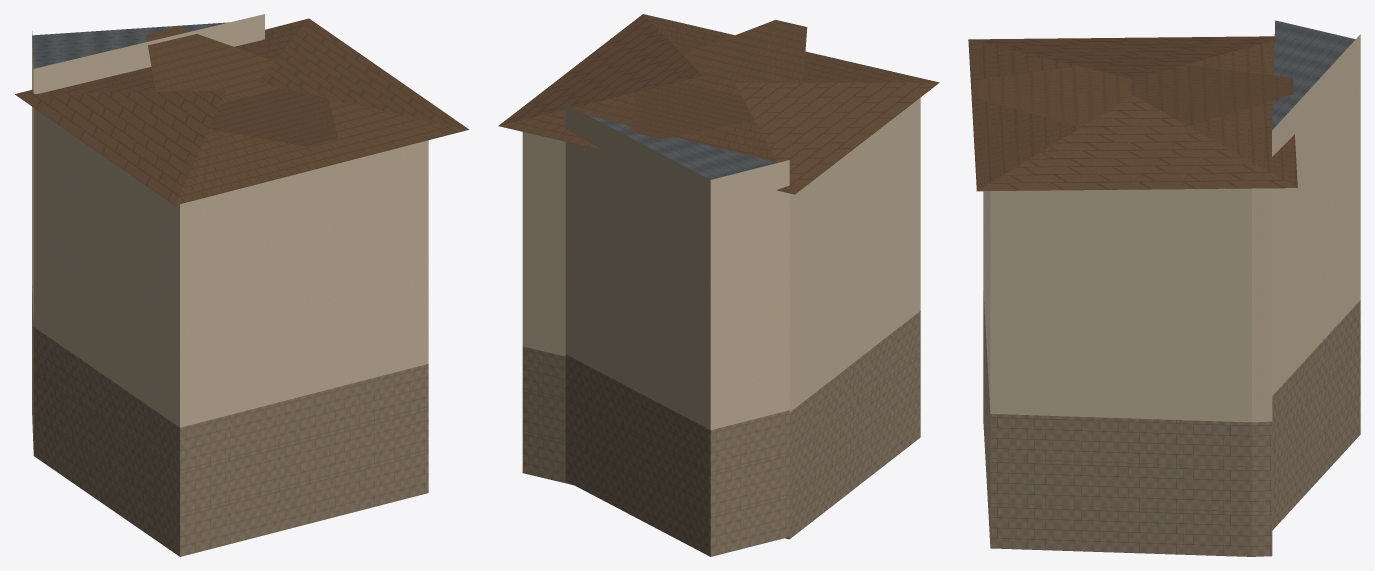
Rendered from bld_c5_10_478.gltf.
3 renders of one model, left to right at view 1: azimuth 30°, elevation 25°; view 2: azimuth 150°, elevation 25°; view 3: azimuth 270°, elevation 25°, orthographic. The views are drawn at different scales.
Parts seen in each view (by area): view 1: bld_c5_10_478; view 2: bld_c5_10_478; view 3: bld_c5_10_478.
Part boxes in pixels (left/top/right/bottom): bld_c5_10_478: left=15, top=14, right=468, bottom=556; bld_c5_10_478: left=498, top=14, right=939, bottom=556; bld_c5_10_478: left=968, top=20, right=1360, bottom=556.
Bounding box in the file's own units: 12.6 × 15.28 × 13.47.
5 materials, 5 textured.
